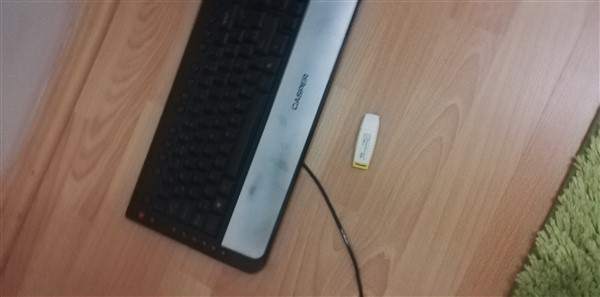flash disk: (351, 108, 384, 174)
klavye: (125, 1, 339, 275)
